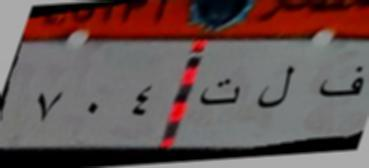0: (82, 96, 103, 118)
4: (131, 83, 154, 118)
7: (35, 88, 65, 126)
faa: (314, 59, 367, 103)
laam: (254, 61, 294, 114)
taa: (198, 77, 242, 114)
